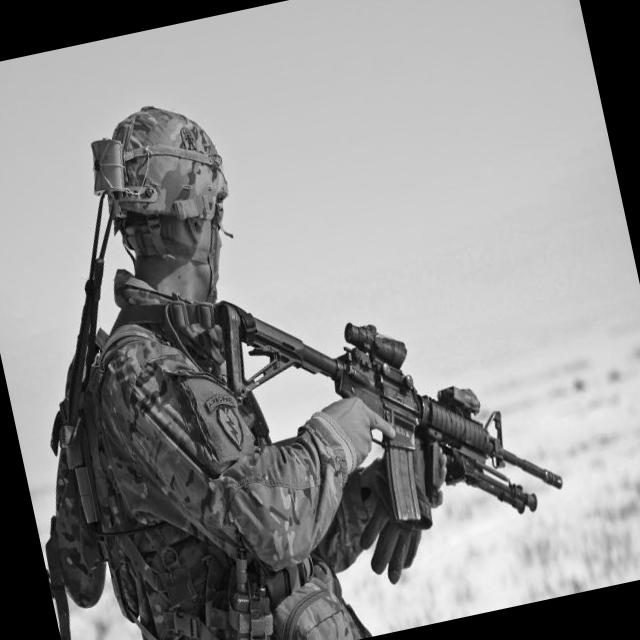Gun: (215, 301, 563, 528)
